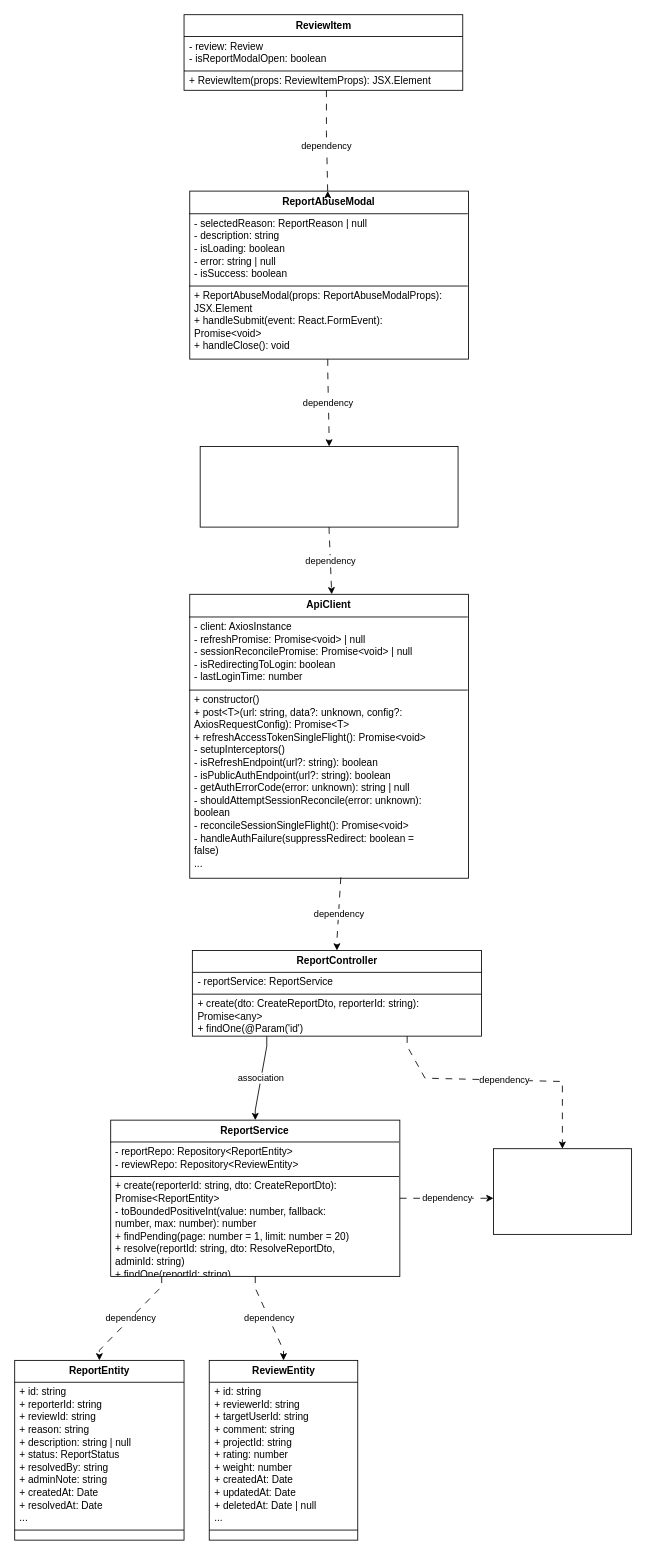
This 647x1555 diagram has some shape labels left out. Each missing label, with the centre of its shape:
"createReport + createReport(payload: CreateReportPayload): Promise<any>" goes at [328,486].
"CreateReportDto + reviewId: string + reason: string + description?: string" goes at [562,1191].
